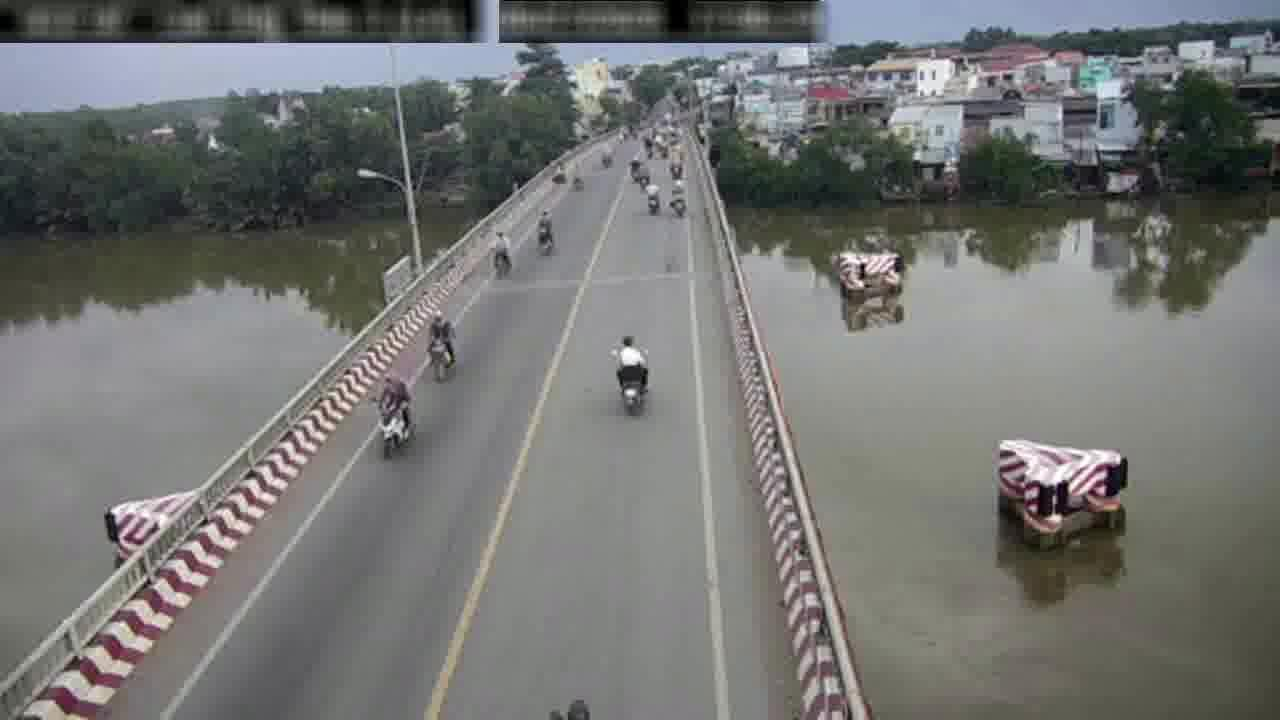motorbike: (365, 373, 417, 461), (616, 329, 653, 420), (427, 309, 455, 384), (490, 227, 512, 279), (535, 207, 555, 257), (669, 174, 686, 217), (629, 151, 643, 186), (646, 180, 659, 216)
